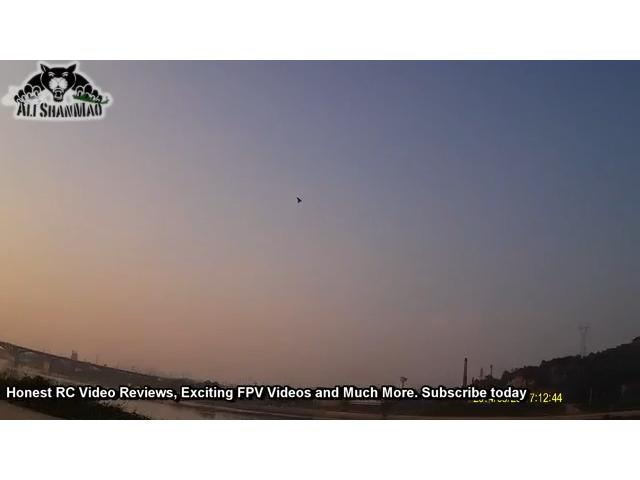Anti-Drone: (289, 187, 311, 209)
